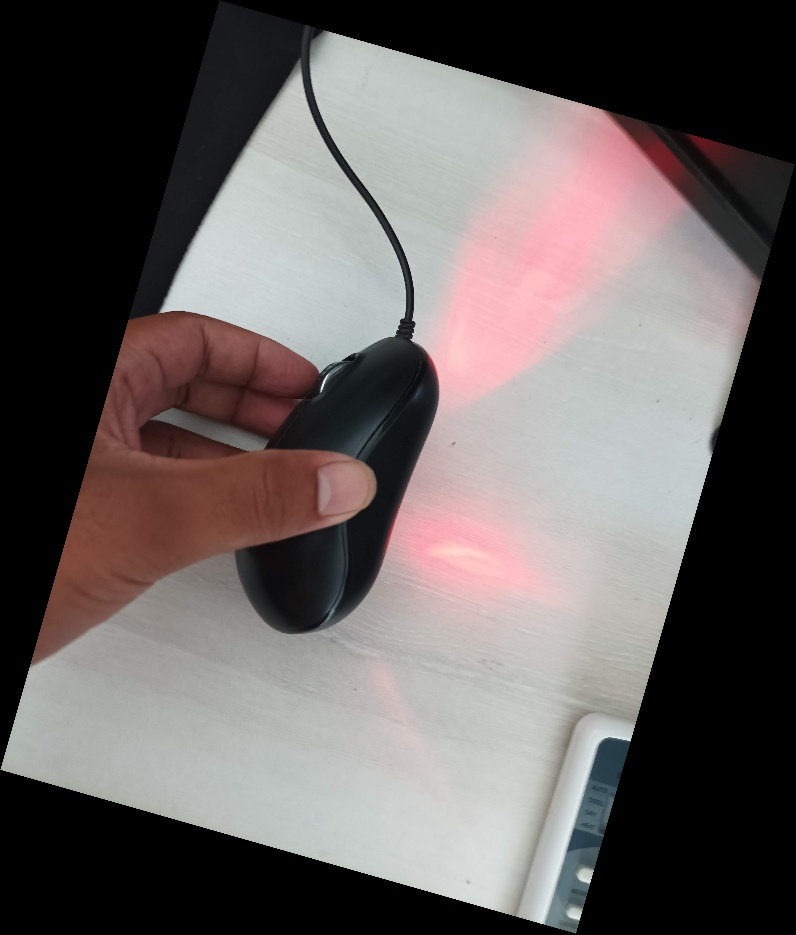mouse: (224, 314, 442, 637)
